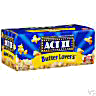grozi_58: (0, 22, 96, 95)
